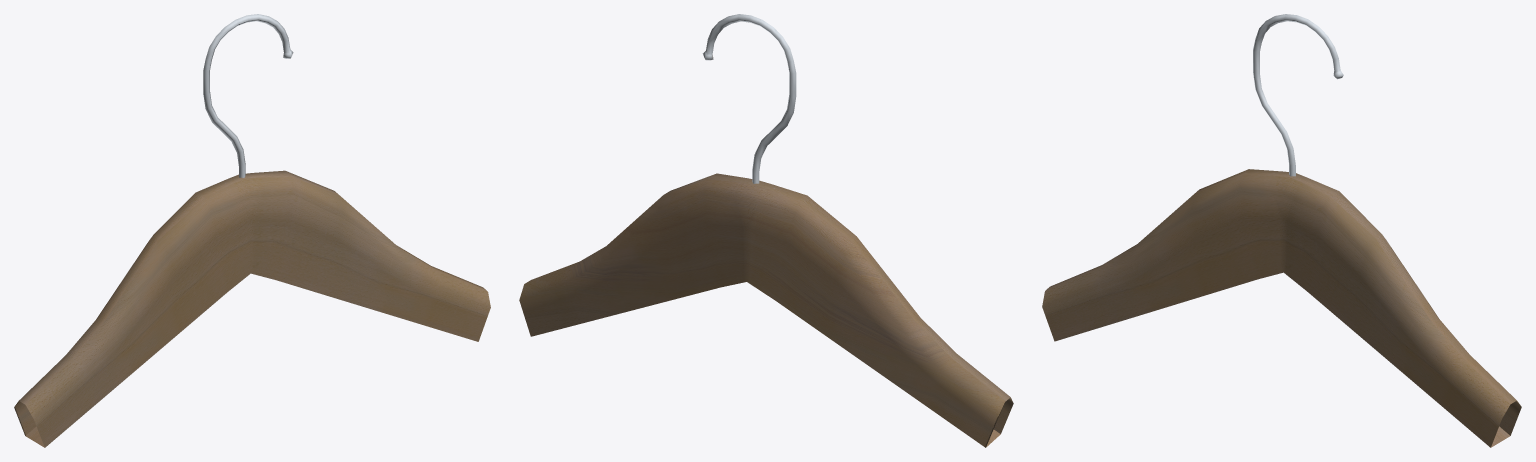
The model's file is wooden-hanger.glb.
3 views of the same model, side by side, from view 1: azimuth 30°, elevation 25°; view 2: azimuth 150°, elevation 25°; view 3: azimuth 330°, elevation 25° (orthographic). The views are drawn at different scales.
Parts seen in each view (by area): view 1: ShirtOnHanger_Hanger_0; view 2: ShirtOnHanger_Hanger_0; view 3: ShirtOnHanger_Hanger_0.
Part boxes in pixels (x1=…): ShirtOnHanger_Hanger_0: x1=14, y1=14, x2=490, y2=447; ShirtOnHanger_Hanger_0: x1=519, y1=14, x2=1013, y2=447; ShirtOnHanger_Hanger_0: x1=1042, y1=14, x2=1521, y2=447.
Size of the model in its own units: 0.8213 by 0.6157 by 0.0882.
1 material, 1 textured.
